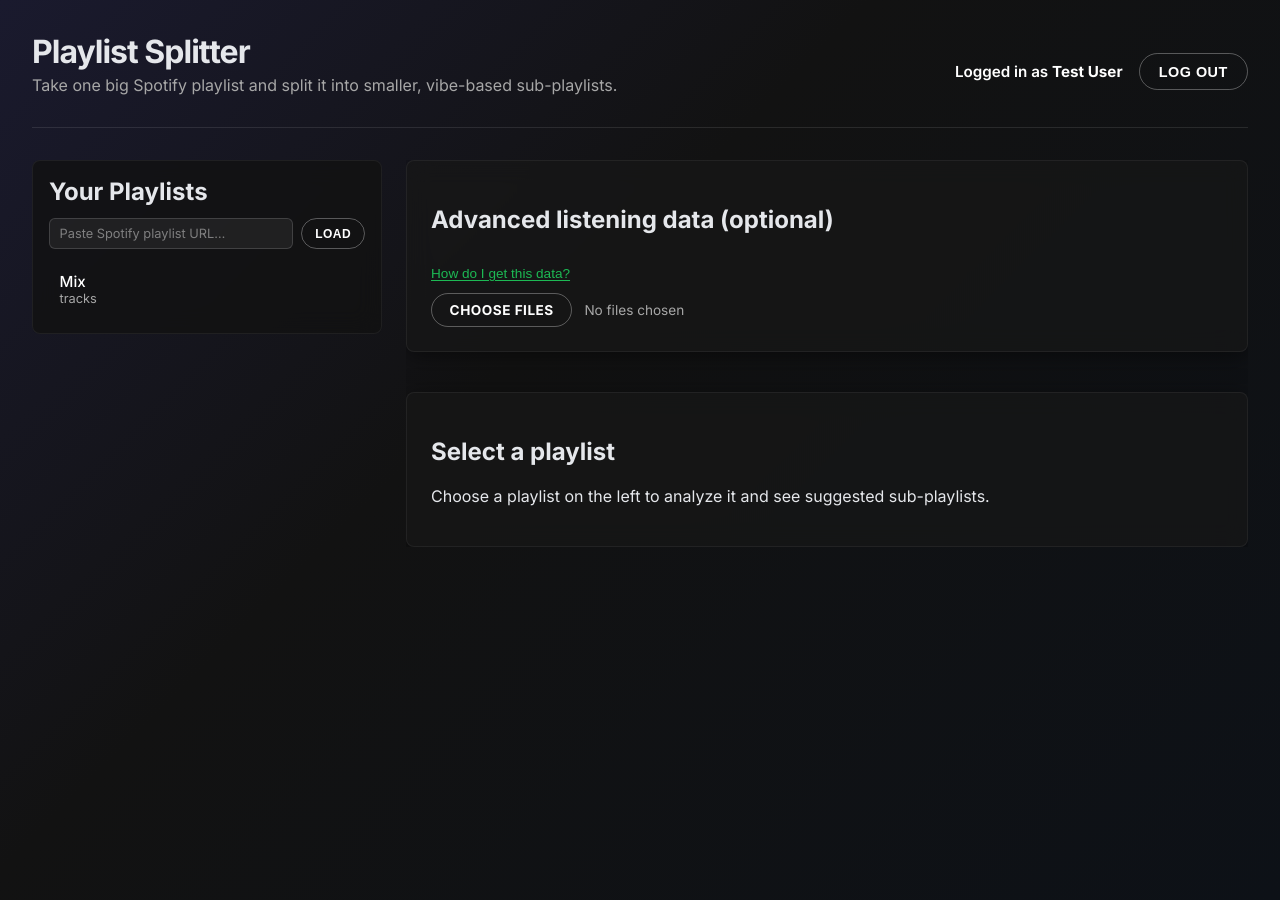
Vibe analysis flow › shows the loading banner while the AI is working
Click the text "Mix" at (73, 282), box [60, 272, 86, 291]
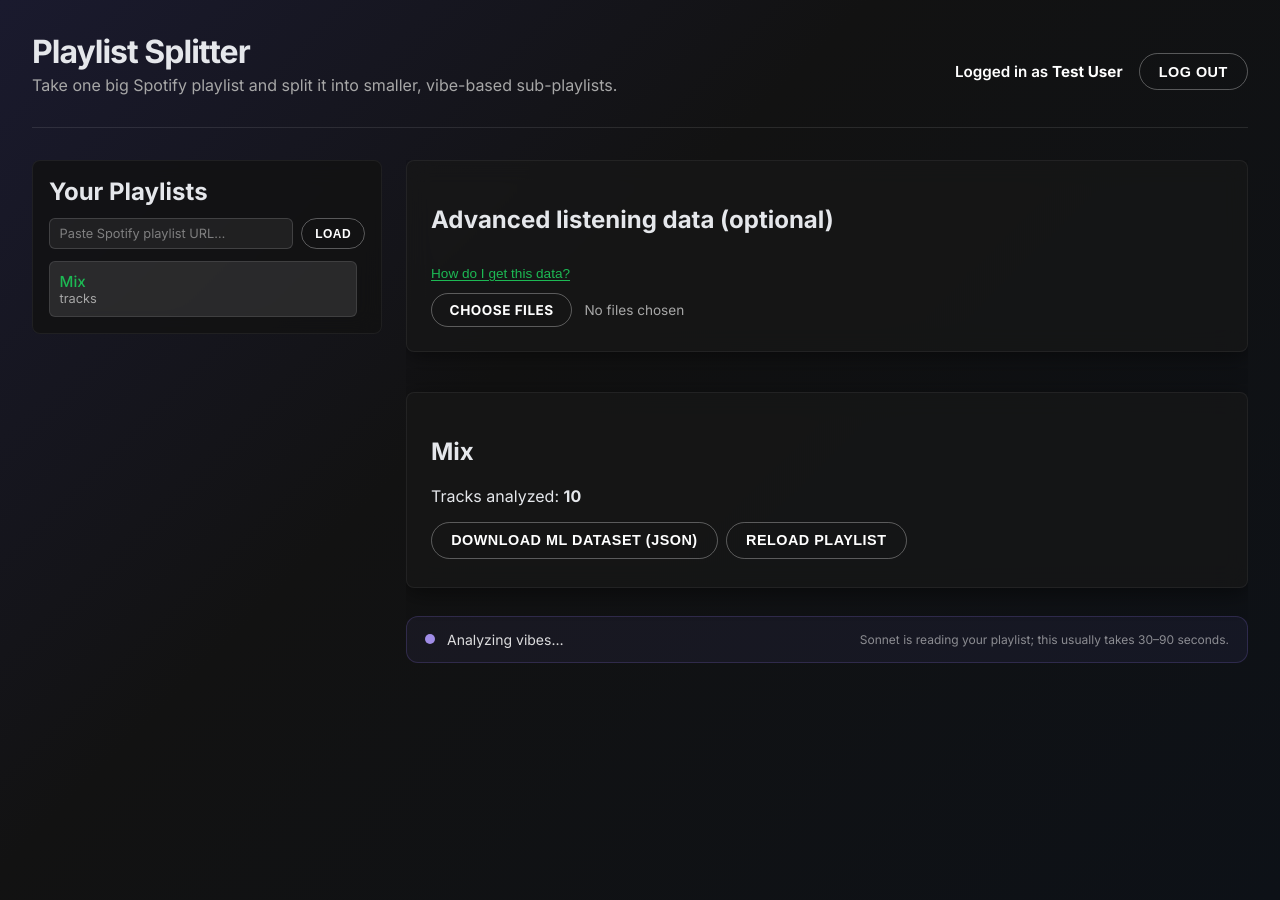
Expected: the text "Analyzing vibes…" is shown, [447, 631, 564, 648]
